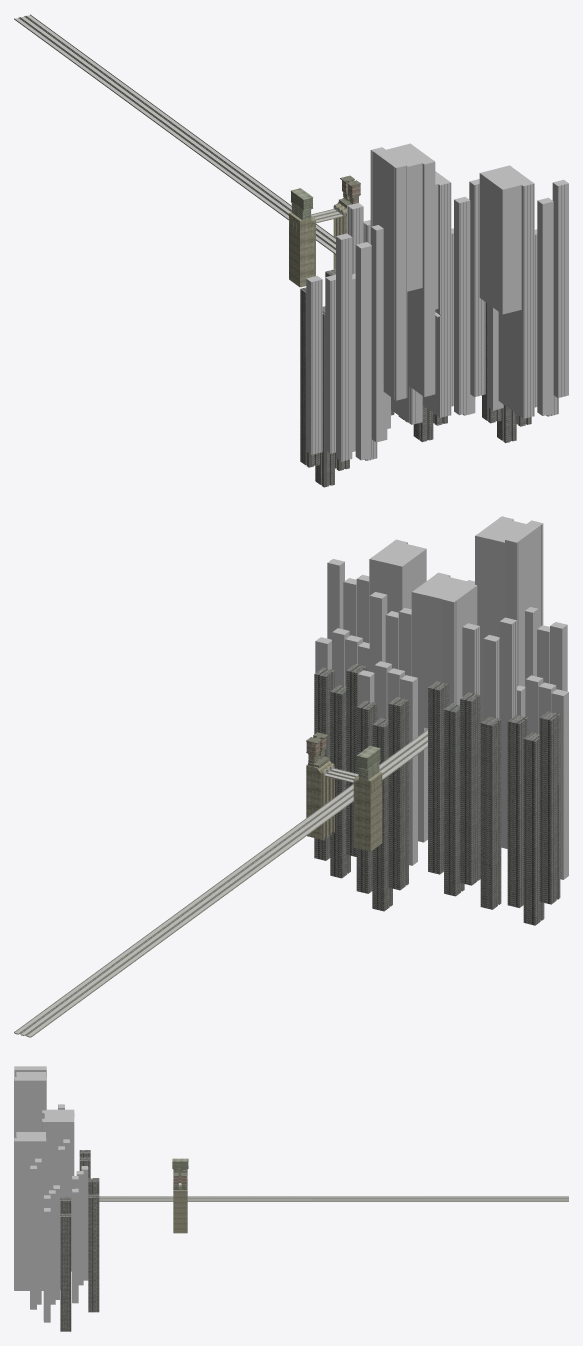
The model's file is SM_Autobahn_00.fbx.
The picture shows the model from 3 angles, top to bottom: view 1: azimuth 30°, elevation 25°; view 2: azimuth 150°, elevation 25°; view 3: azimuth 270°, elevation 25°; orthographic projection. The views are drawn at different scales.
Parts seen in each view (by area): view 1: Building_03, Building_00, SM_Autobahn_00_Block_01.001, SM_Autobahn_00_Block_02.005, SM_Autobahn_00_Block_01.002, SM_Autobahn_00_Block_02.004, SM_Autobahn_00_Block_02.006, Building_01; view 2: Building_03, Building_00, SM_Autobahn_00_Block_01.002, SM_Autobahn_00_Block_02.004, SM_Autobahn_00_Block_01.001, SM_Autobahn_00_Block_02.006, SM_Autobahn_00_Block_02.005, Building_01, SM_Autobahn_00, SM_Autobahn_00_Block_02.003; view 3: Building_03, Building_00, SM_Autobahn_00_Block_01.002, SM_Autobahn_00_Block_02.006, SM_Autobahn_00_Block_02.005, SM_Autobahn_00_Block_01.001, SM_Autobahn_00_Block_02.004, Building_01.
Boxes of the visible parts, x1=… form: Building_03: x1=306, y1=143, x2=568, y2=461; Building_00: x1=300, y1=269, x2=531, y2=487; SM_Autobahn_00_Block_01.001: x1=15, y1=15, x2=192, y2=138; SM_Autobahn_00_Block_02.005: x1=14, y1=14, x2=193, y2=138; SM_Autobahn_00_Block_01.002: x1=179, y1=134, x2=440, y2=317; SM_Autobahn_00_Block_02.004: x1=289, y1=217, x2=346, y2=287; SM_Autobahn_00_Block_02.006: x1=177, y1=134, x2=441, y2=316; Building_01: x1=290, y1=175, x2=360, y2=220; Building_03: x1=315, y1=516, x2=568, y2=879; Building_00: x1=314, y1=664, x2=560, y2=925; SM_Autobahn_00_Block_01.002: x1=189, y1=730, x2=427, y2=909; SM_Autobahn_00_Block_02.004: x1=306, y1=777, x2=382, y2=851; SM_Autobahn_00_Block_01.001: x1=14, y1=905, x2=203, y2=1037; SM_Autobahn_00_Block_02.006: x1=188, y1=729, x2=427, y2=909; SM_Autobahn_00_Block_02.005: x1=14, y1=905, x2=205, y2=1037; Building_01: x1=306, y1=732, x2=380, y2=780; SM_Autobahn_00: x1=306, y1=761, x2=382, y2=793; SM_Autobahn_00_Block_02.003: x1=322, y1=777, x2=355, y2=847; Building_03: x1=14, y1=1066, x2=88, y2=1322; Building_00: x1=60, y1=1150, x2=99, y2=1331; SM_Autobahn_00_Block_01.002: x1=99, y1=1196, x2=358, y2=1201; SM_Autobahn_00_Block_02.006: x1=99, y1=1196, x2=358, y2=1201; SM_Autobahn_00_Block_02.005: x1=359, y1=1196, x2=568, y2=1201; SM_Autobahn_00_Block_01.001: x1=359, y1=1196, x2=568, y2=1201; SM_Autobahn_00_Block_02.004: x1=173, y1=1184, x2=187, y2=1233; Building_01: x1=172, y1=1158, x2=188, y2=1189.
Bounding box in the file's own units: 67558 × 90324 × 209949.
